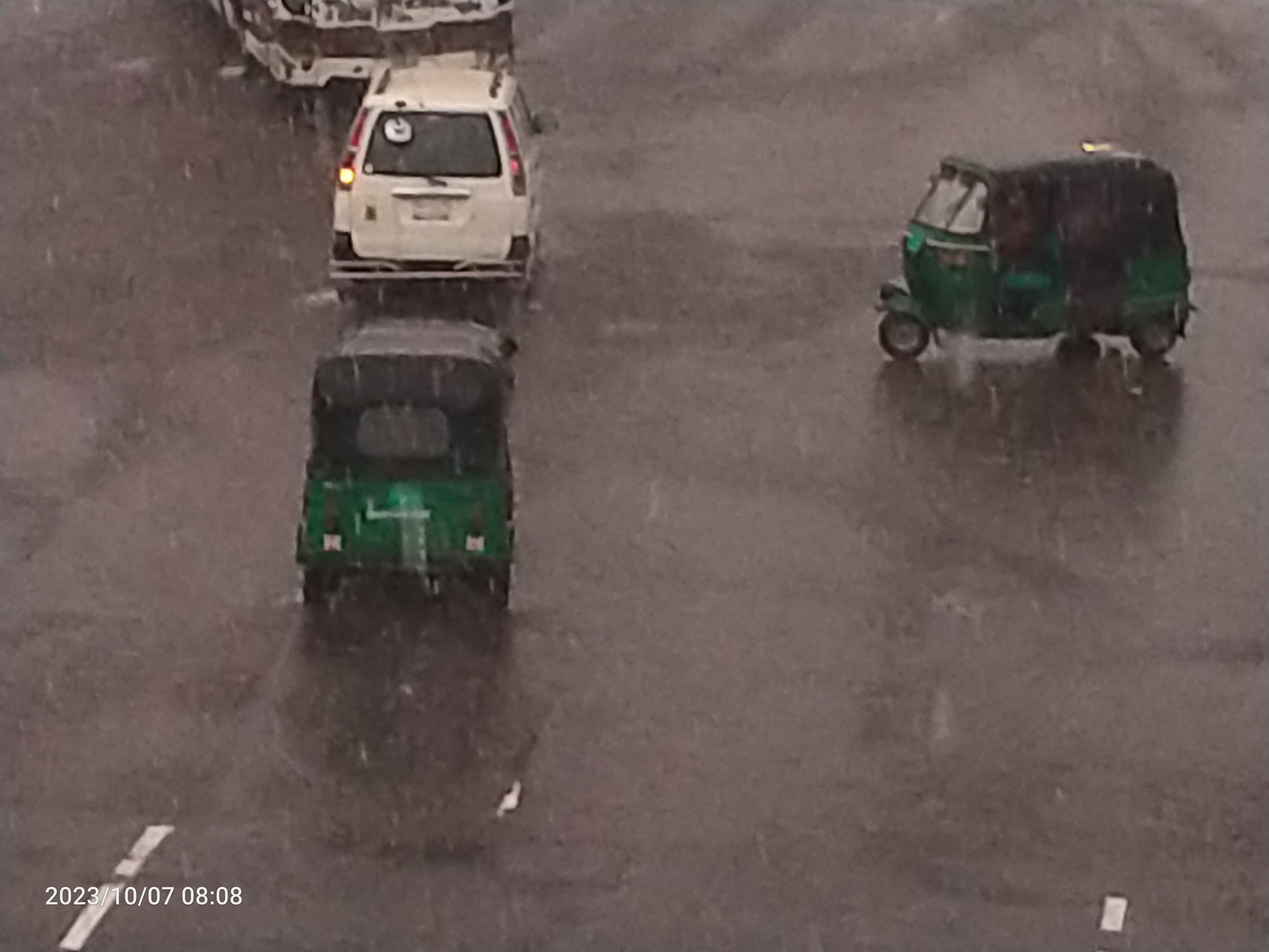Bus: (153, 0, 579, 83)
Car: (252, 39, 588, 309)
